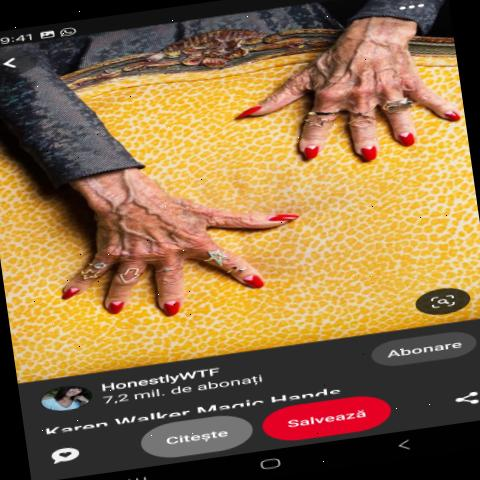hands: (183, 0, 470, 188), (43, 174, 325, 348)
